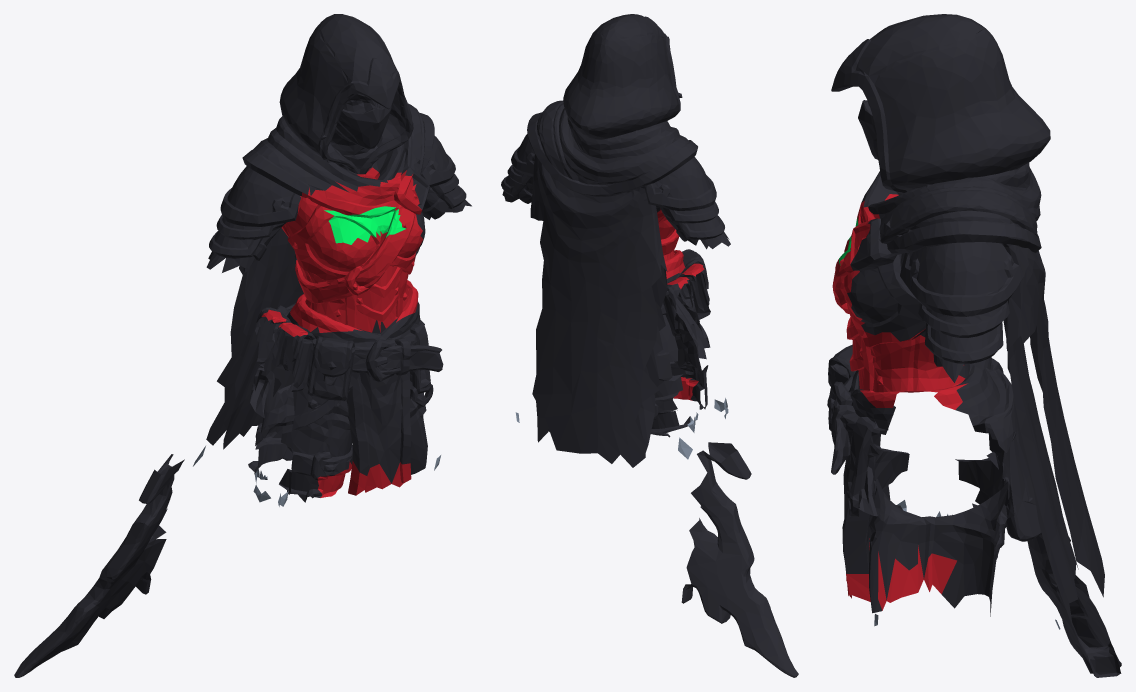
File: rogue_torso.obj
The picture shows the model from 3 angles, left to right: view 1: azimuth 30°, elevation 25°; view 2: azimuth 150°, elevation 25°; view 3: azimuth 270°, elevation 25°; orthographic projection. The views are drawn at different scales.
Visible parts, largest first — view 1: Rogue_Torso; view 2: Rogue_Torso; view 3: Rogue_Torso.
Part boxes in pixels (x1=…): Rogue_Torso: x1=14, y1=14, x2=471, y2=677; Rogue_Torso: x1=501, y1=14, x2=798, y2=677; Rogue_Torso: x1=827, y1=14, x2=1121, y2=677.
Size of the model in its own units: 1.1 by 1.7 by 0.5534.
